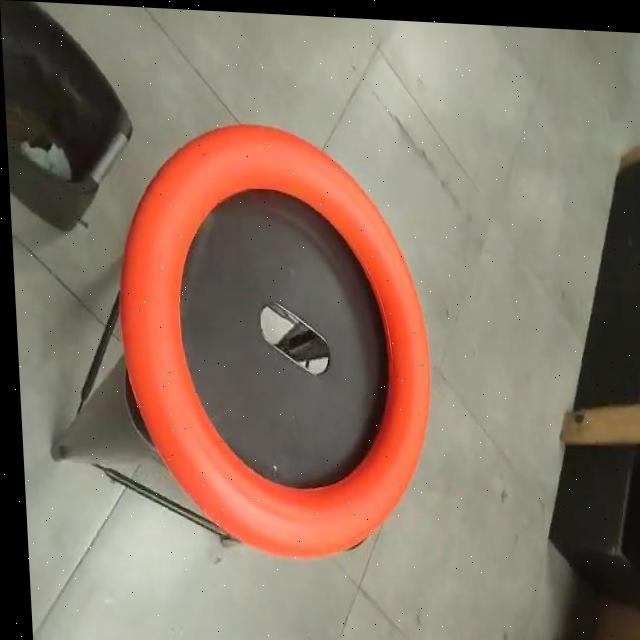note: (103, 111, 437, 559)
